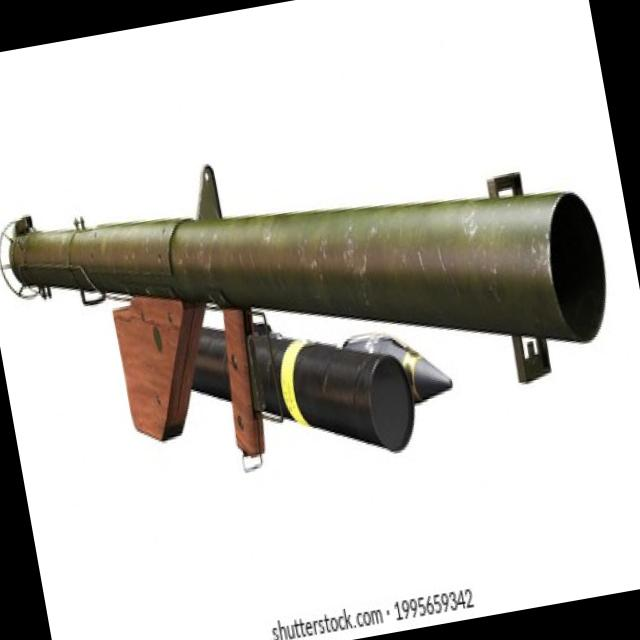Weapon: (0, 100, 635, 528)
